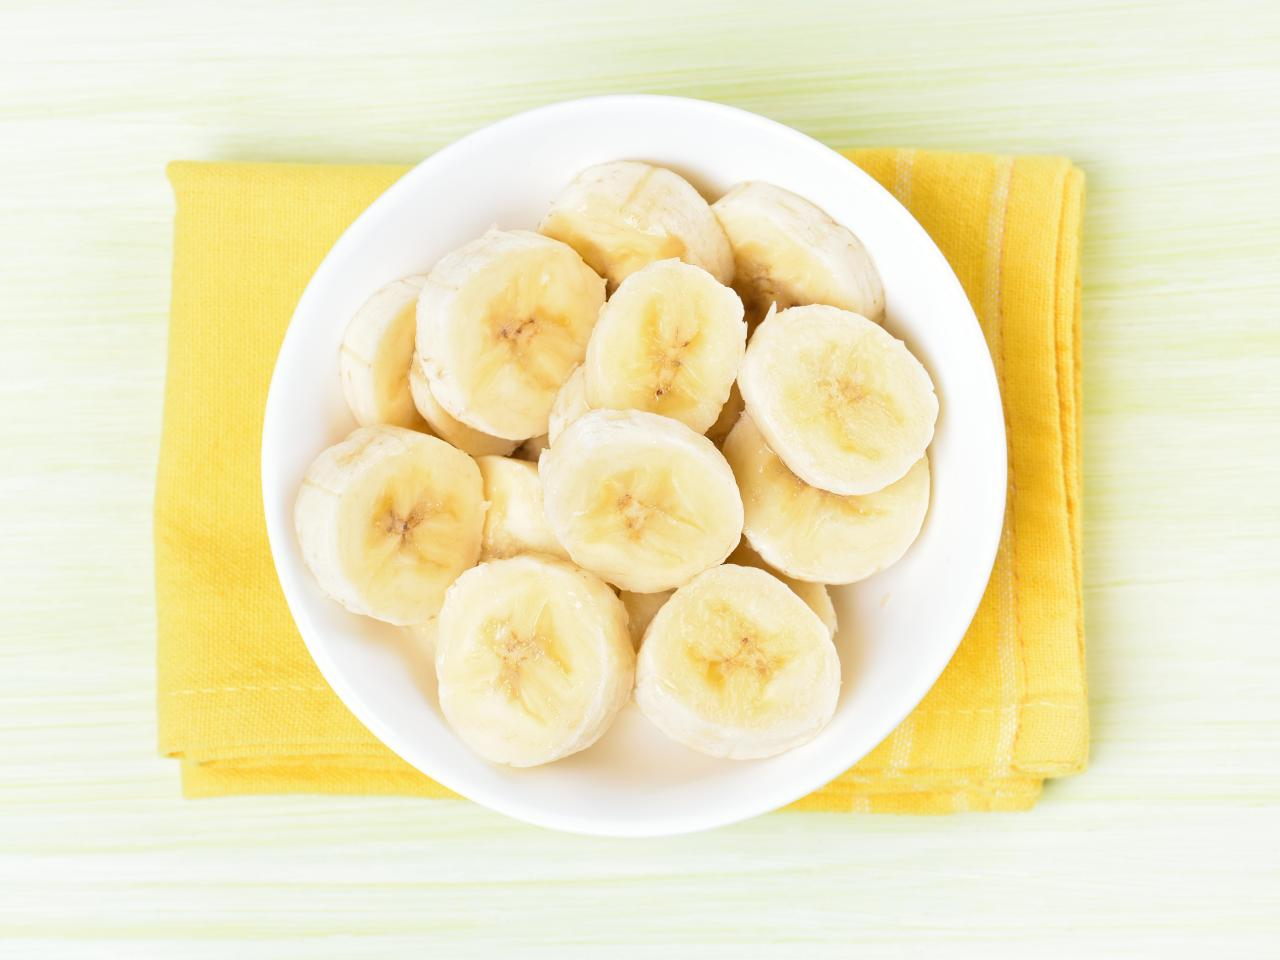banana: (291, 166, 944, 772)
